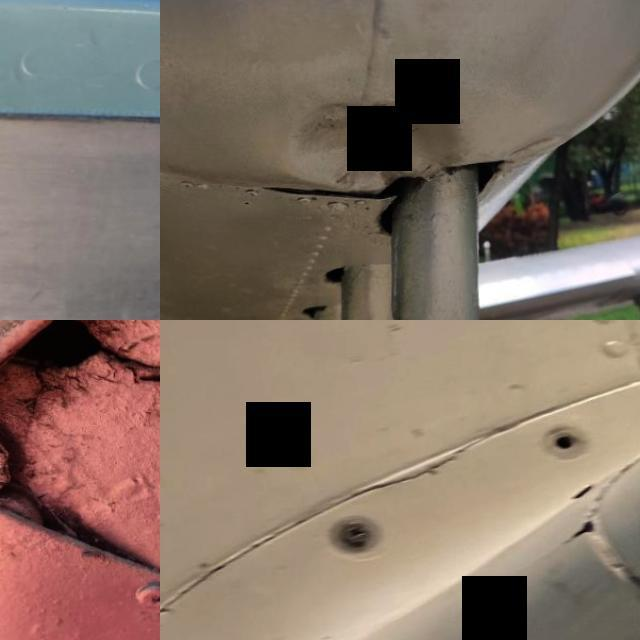Crack: (0, 320, 160, 445), (338, 446, 509, 500), (563, 521, 606, 552)
Dent: (275, 82, 483, 214)
Missing_Fastener: (546, 432, 586, 458)
